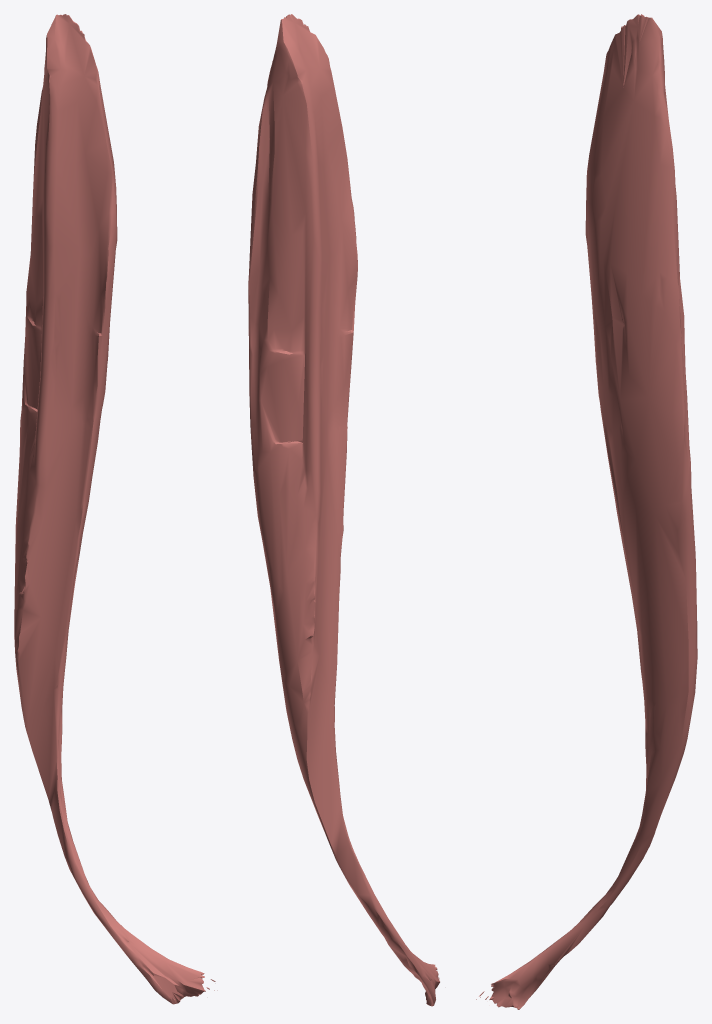
File: fma22545_fj1439m.glb
3 renders of one model, left to right at view 1: azimuth 90°, elevation 25°; view 2: azimuth 150°, elevation 25°; view 3: azimuth 270°, elevation 25°, orthographic. The views are drawn at different scales.
Parts seen in each view (by area): view 1: FMA22545_FJ1439M; view 2: FMA22545_FJ1439M; view 3: FMA22545_FJ1439M.
Boxes of the visible parts, x1,y1,x2,y2 form: FMA22545_FJ1439M: (14,14,217,1004); FMA22545_FJ1439M: (248,14,439,1006); FMA22545_FJ1439M: (476,14,697,1009).
Bounding box in the file's own units: 0.0498 × 0.3941 × 0.0768.
